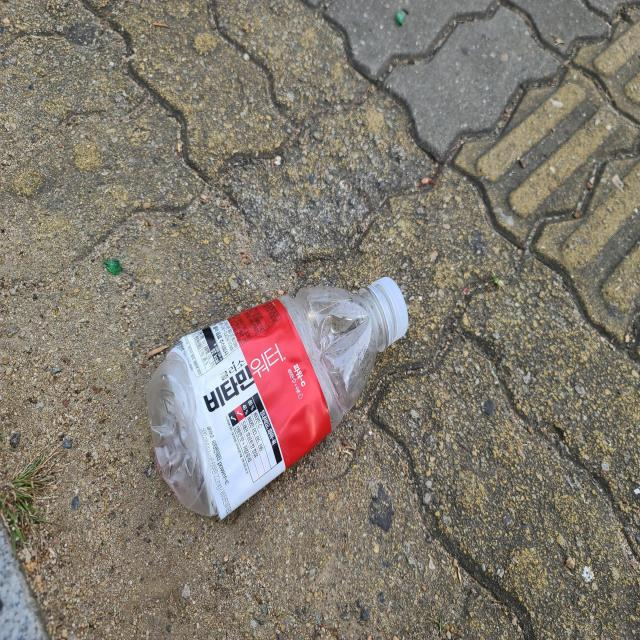plastic: (147, 277, 409, 519)
